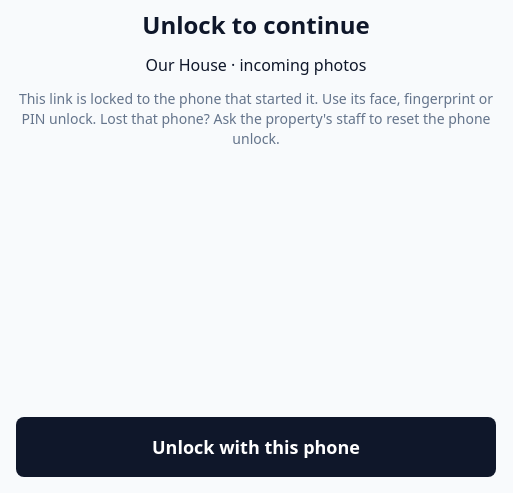
Test: phone unlock › asks a locked link for the phone unlock and loads the capture with it
Step 1. Click the button "Unlock with this phone" → (256, 447), box [16, 417, 496, 477]
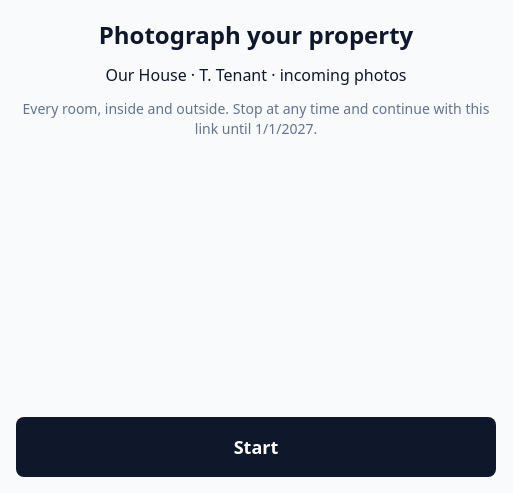
Now the button "Start" is shown, box [16, 417, 496, 477]
